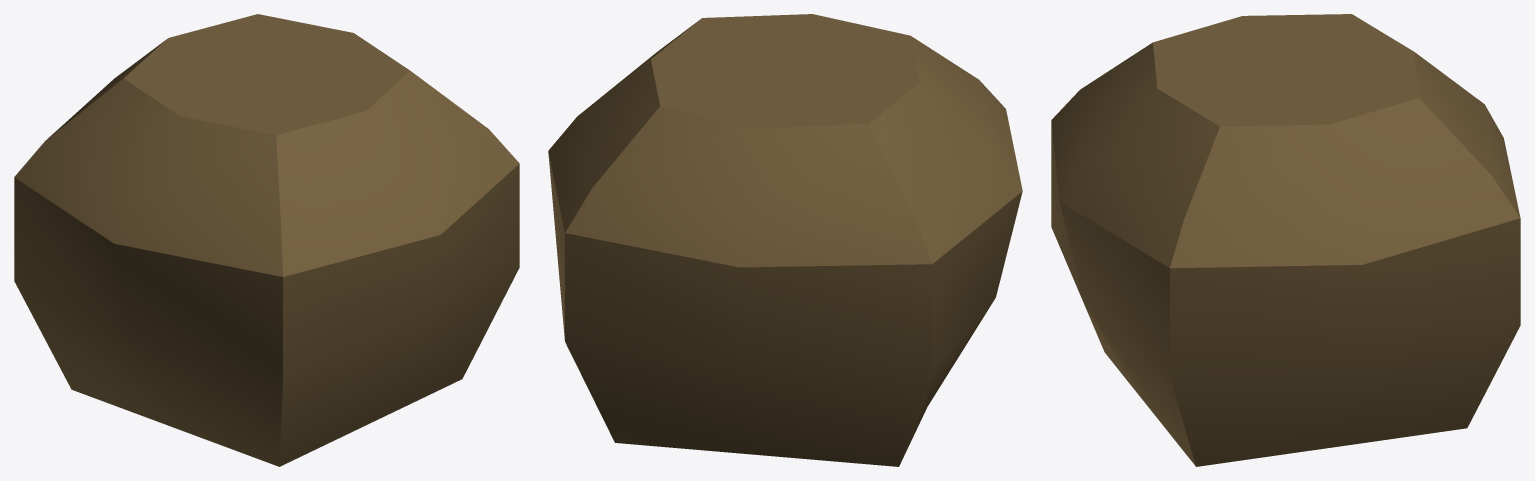
Rendered from RockSand.fbx.
The picture shows the model from 3 angles, left to right: view 1: azimuth 30°, elevation 25°; view 2: azimuth 150°, elevation 25°; view 3: azimuth 270°, elevation 25°; orthographic projection. The views are drawn at different scales.
Parts seen in each view (by area): view 1: Cube; view 2: Cube; view 3: Cube.
Part boxes in pixels (box(x1,y1,x2,y2)): Cube: box(14, 14, 519, 466); Cube: box(548, 14, 1022, 466); Cube: box(1051, 14, 1520, 466).
Bounding box in the file's own units: 37.09 × 27.93 × 37.09.
